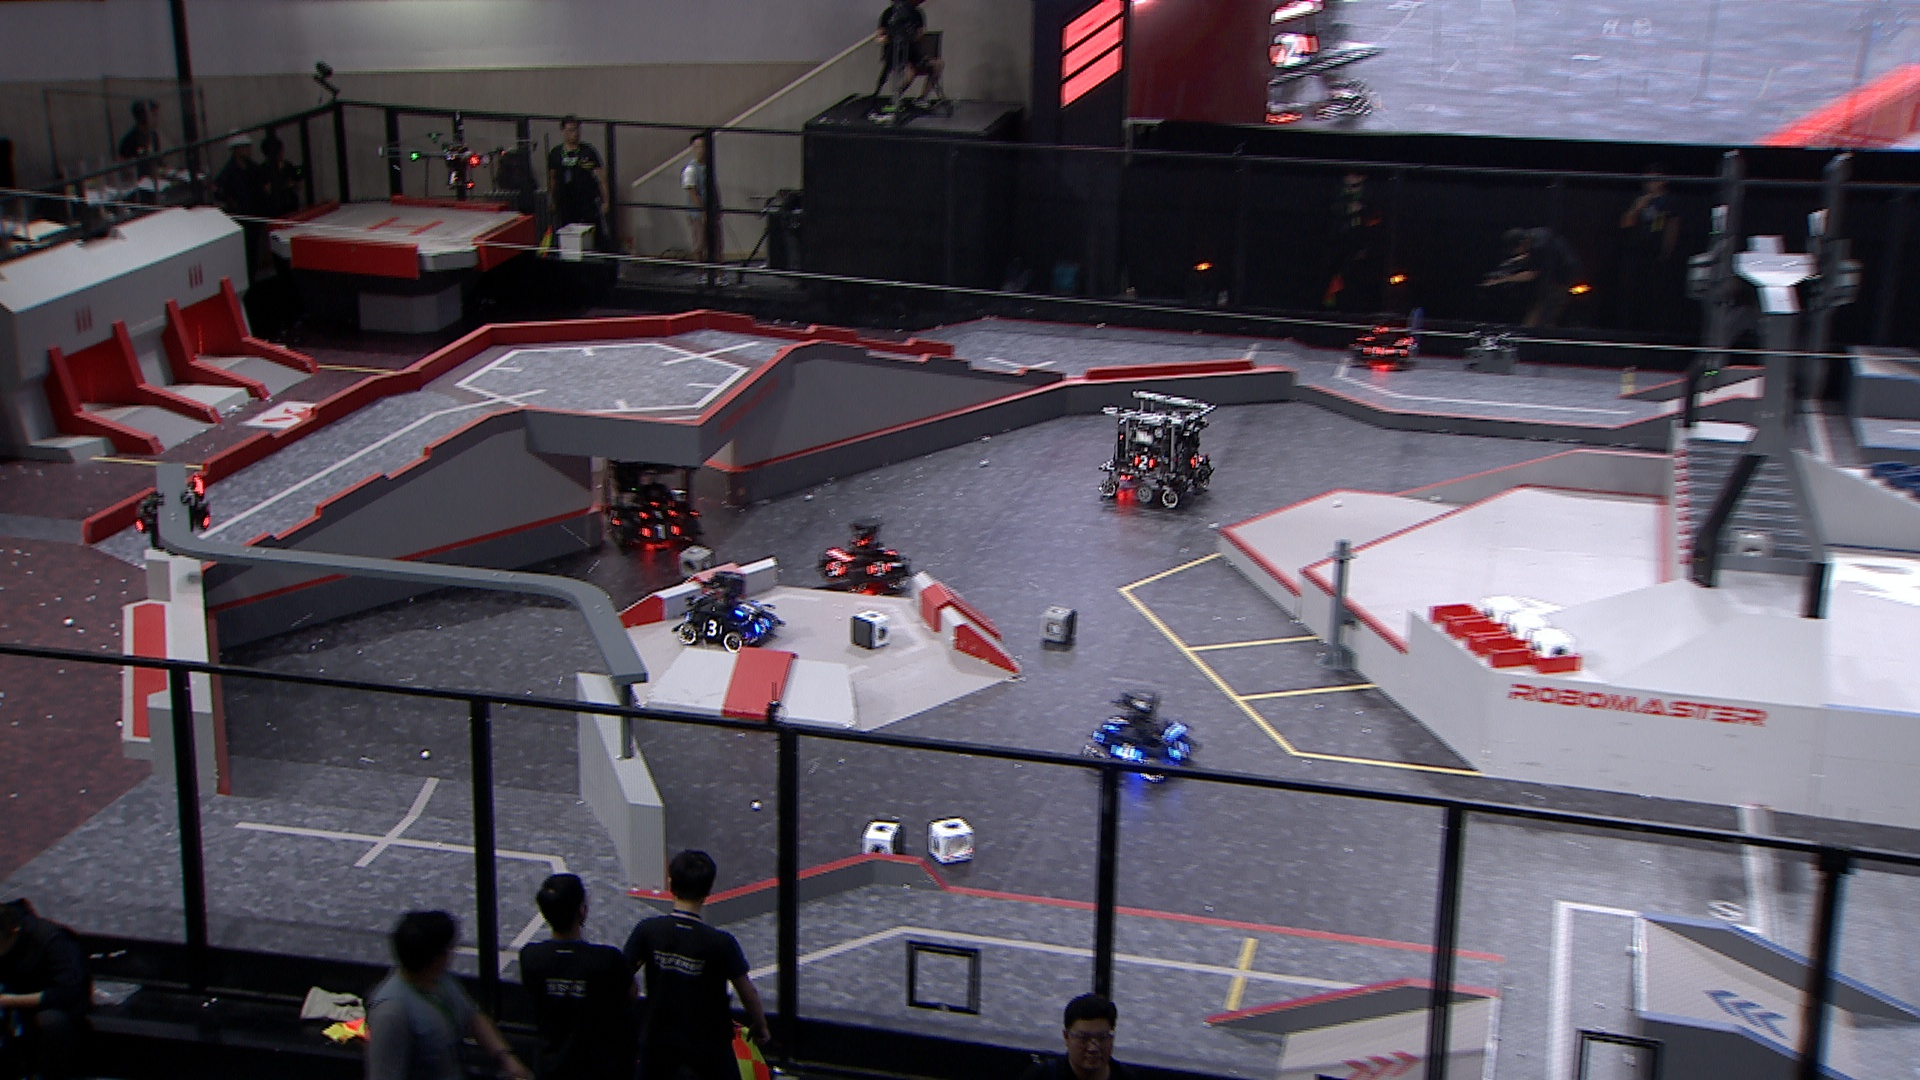armor: (1110, 741, 1145, 765), (637, 522, 680, 541), (1168, 737, 1191, 764), (637, 508, 676, 522), (698, 618, 727, 638), (864, 560, 891, 580), (603, 506, 622, 533), (1131, 454, 1156, 471), (1101, 713, 1126, 731), (825, 560, 847, 578), (1364, 345, 1393, 357), (754, 617, 771, 637), (735, 603, 756, 617), (1188, 454, 1203, 469)
car: (1093, 389, 1216, 510), (589, 429, 703, 553), (1077, 688, 1203, 781), (674, 570, 787, 655), (816, 514, 915, 597), (1349, 314, 1422, 371)
watcher: (135, 473, 215, 553)
